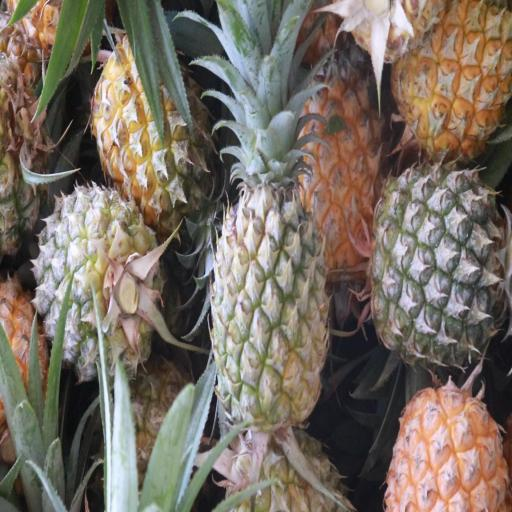------------------------------: (35, 188, 158, 379), (94, 25, 211, 224)
Pineapple - v8 v1: (300, 54, 384, 270), (395, 0, 511, 153), (386, 384, 506, 512)
